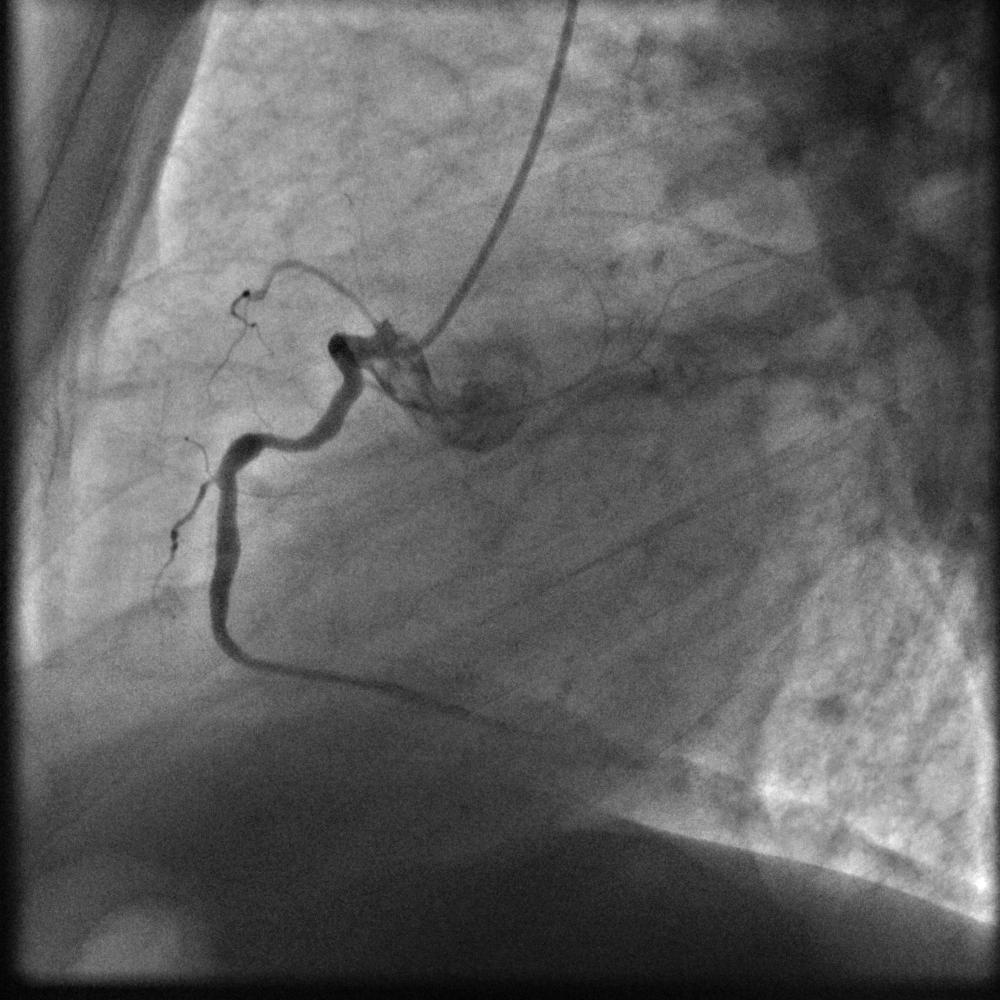Stenosis: (255, 429, 293, 456)
